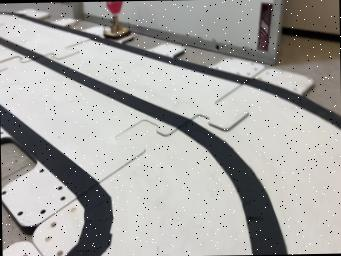stop: (104, 1, 133, 39), (104, 1, 133, 39), (104, 1, 133, 39)
street: (0, 11, 341, 256), (0, 11, 341, 256), (0, 11, 341, 256)
